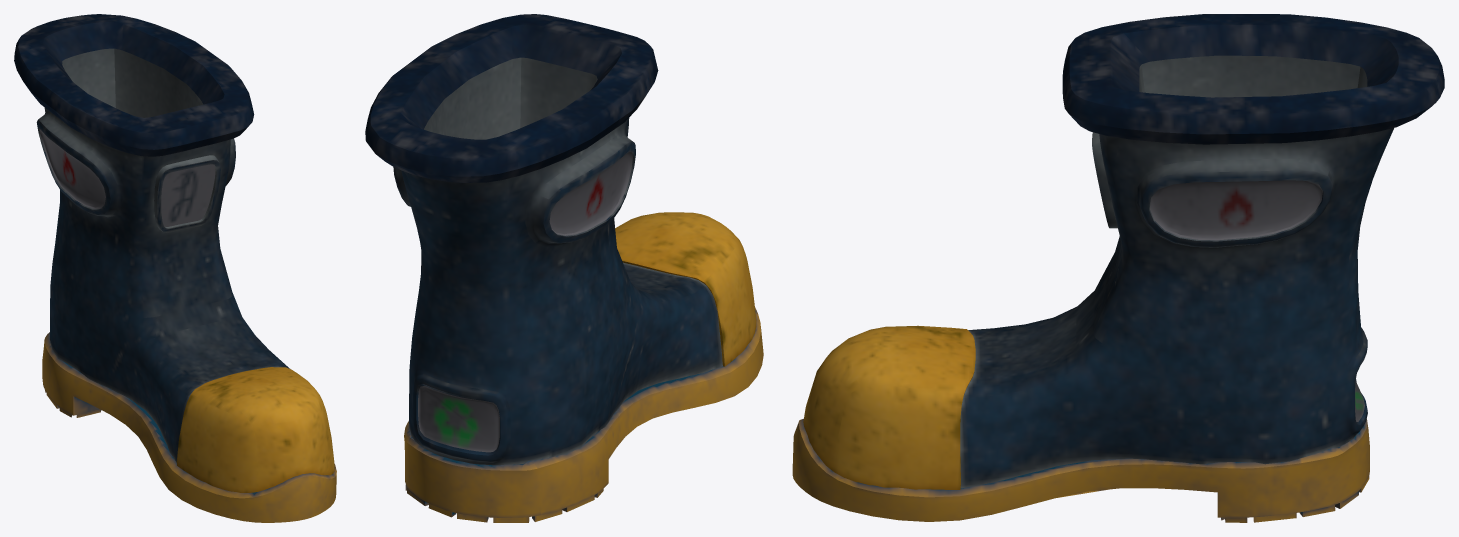
File: BootswithTex.fbx
3 renders of one model, left to right at view 1: azimuth 30°, elevation 25°; view 2: azimuth 150°, elevation 25°; view 3: azimuth 270°, elevation 25°, orthographic. The views are drawn at different scales.
Parts seen in each view (by area): view 1: Plane; view 2: Plane; view 3: Plane.
Part boxes in pixels (x1,y1,x2,y2): Plane: [14, 14, 336, 522]; Plane: [365, 14, 763, 522]; Plane: [792, 14, 1444, 522].
Size of the model in its own units: 9.78 by 18.16 by 25.48.
Materials: 8 (8 with a texture image).
